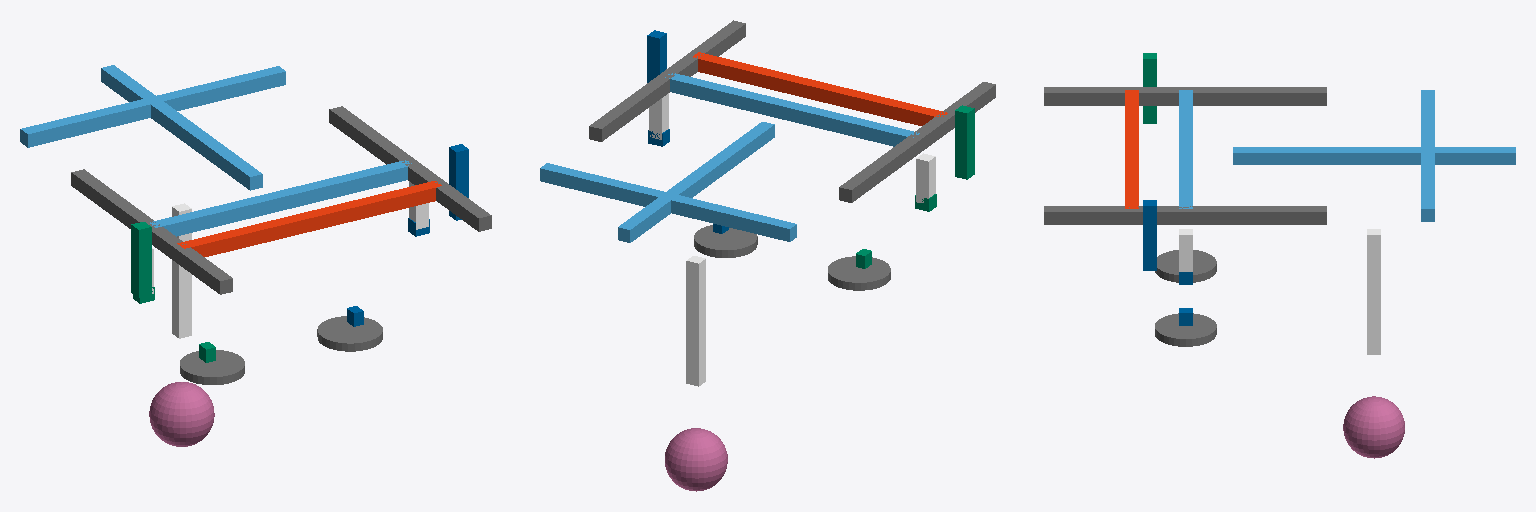
robot.urdf — robot:
<?xml version="1.0" ?>
<!-- =================================================================================== -->
<!-- |    This document was autogenerated by xacro from robot_core.xacro               | -->
<!-- |    EDITING THIS FILE BY HAND IS NOT RECOMMENDED                                 | -->
<!-- =================================================================================== -->
<robot>
  <!-- Specify some standard inertial calculations https://en.wikipedia.org/wiki/List_of_moments_of_inertia -->
  <!-- These make use of xacro's mathematical functionality -->
  <material name="white">
    <color rgba="1 1 1 1"/>
  </material>
  <material name="orange">
    <color rgba="1 0.3 0.1 1"/>
  </material>
  <material name="blue">
    <color rgba="0.2 0.2 1 1"/>
  </material>
  <material name="black">
    <color rgba="0 0 0 1"/>
  </material>
  <material name="red">
    <color rgba="1 0 0 1"/>
  </material>
  <material name="grey">
    <color rgba="0.5 0.5 0.5 1"/>
  </material>
  <!-- Create fixed world frame -->
  <link name="world"/>
  <joint name="world_joint" type="floating">
    <parent link="world"/>
    <child link="chassis"/>
    <origin xyz="0 0 0.1"/>
  </joint>
  <link name="chassis">
    <visual>
      <geometry>
        <box size="0.3 0.015 0.015"/>
      </geometry>
      <material name="orange"/>
      <origin xyz="0 -0.0575 0"/>
    </visual>
    <visual>
      <geometry>
        <box size="0.3 0.015 0.015"/>
      </geometry>
      <origin xyz="0 0.2575 0"/>
    </visual>
    <visual>
      <geometry>
        <box size="0.015 0.3 0.015"/>
      </geometry>
      <material name="grey"/>
      <origin xyz="-0.15 0 0"/>
    </visual>
    <visual>
      <geometry>
        <box size="0.015 0.3 0.015"/>
      </geometry>
      <material name="grey"/>
      <origin xyz="0.15 0 0"/>
    </visual>
    <visual>
      <geometry>
        <box size="0.3 0.015 0.015"/>
      </geometry>
      <origin xyz="0 0 0"/>
    </visual>
    <visual>
      <geometry>
        <box size="0.015 0.3 0.015"/>
      </geometry>
      <origin xyz="0 0.2 0"/>
    </visual>
    <inertial>
      <mass value="1"/>
      <inertia ixx="1e-3" ixy="0.0" ixz="0.0" iyy="1e-3" iyz="0.0" izz="1e-3"/>
    </inertial>
  </link>
  <gazebo reference="chassis">
    <material>Gazebo/White</material>
  </gazebo>
  <!-- Left_wheel_base-->
  <link name="left_wheel_base">
    <visual>
      <geometry>
        <box size="0.015 0.015 0.05"/>
      </geometry>
      <origin xyz="-0.08 0 -0.0325"/>
      <material name="white"/>
    </visual>
    <visual>
      <geometry>
        <box size="0.017 0.015 0.015"/>
      </geometry>
      <origin xyz="-0.08 0 -0.0575"/>
    </visual>
    <visual>
      <geometry>
        <box size="0.015 0.015 0.076"/>
      </geometry>
      <origin xyz="-0.10450000000000001 -0.038 0.0"/>
    </visual>
    <visual>
      <geometry>
        <box size="0.0115 0.015 0.015"/>
      </geometry>
      <origin xyz="-0.00575 0 -0.14100000000000001"/>
    </visual>
    <inertial>
      <mass value="1"/>
      <inertia ixx="1e-3" ixy="0.0" ixz="0.0" iyy="1e-3" iyz="0.0" izz="1e-3"/>
    </inertial>
  </link>
  <gazebo reference="left_wheel_base_joint">
    <material>Gazebo/Blue</material>
  </gazebo>
  <joint name="left_wheel_base_joint" type="continuous">
    <parent link="chassis"/>
    <child link="left_wheel_base"/>
    <origin rpy="0.0 0.0 0.0" xyz="-0.08 0 -0.0075"/>
  </joint>
  <!-- Left_wheel-->
  <link name="left_wheel">
    <visual>
      <geometry>
        <cylinder length="0.009" radius="0.033"/>
      </geometry>
      <origin rpy="0 0.0 1.5707963267948966" xyz="0 0 0.0"/>
      <material name="grey"/>
    </visual>
  </link>
  <joint name="left_wheel_joint" type="continuous">
    <parent link="left_wheel_base"/>
    <child link="left_wheel"/>
    <origin xyz="0 0 -0.159"/>
    <axis xyz="0 1 0"/>
  </joint>
  <!-- right_wheel_base-->
  <link name="right_wheel_base">
    <visual>
      <geometry>
        <box size="0.015 0.015 0.05"/>
      </geometry>
      <origin xyz="0.08 0 -0.0325"/>
      <material name="white"/>
    </visual>
    <visual>
      <geometry>
        <box size="0.017 0.015 0.015"/>
      </geometry>
      <origin xyz="0.08 0 -0.0575"/>
    </visual>
    <visual>
      <geometry>
        <box size="0.015 0.015 0.076"/>
      </geometry>
      <origin xyz="0.10450000000000001 -0.038 0.0"/>
    </visual>
    <visual>
      <geometry>
        <box size="0.0115 0.015 0.015"/>
      </geometry>
      <origin xyz="0.00575 0 -0.14100000000000001"/>
    </visual>
    <inertial>
      <mass value="1"/>
      <inertia ixx="1e-3" ixy="0.0" ixz="0.0" iyy="1e-3" iyz="0.0" izz="1e-3"/>
    </inertial>
  </link>
  <gazebo reference="right_wheel_base_joint">
    <material>Gazebo/Blue</material>
  </gazebo>
  <joint name="right_wheel_base_joint" type="continuous">
    <parent link="chassis"/>
    <child link="right_wheel_base"/>
    <origin rpy="0.0 0.0 0.0" xyz="0.08 0 -0.0075"/>
  </joint>
  <!-- right_wheel-->
  <link name="right_wheel">
    <visual>
      <geometry>
        <cylinder length="0.009" radius="0.033"/>
      </geometry>
      <origin rpy="0 0.0 1.5707963267948966" xyz="0 0 0.0"/>
      <material name="grey"/>
    </visual>
  </link>
  <gazebo reference="right_wheel">
    <material>Gazebo/Black</material>
  </gazebo>
  <joint name="right_wheel_joint" type="continuous">
    <parent link="right_wheel_base"/>
    <child link="right_wheel"/>
    <origin xyz="0 0 -0.159"/>
    <axis xyz="0 1 0"/>
  </joint>
  <!-- castor wheel-->
  <link name="castor_wheel">
    <visual>
      <geometry>
        <box size="0.015 0.015 0.14100000000000001"/>
      </geometry>
      <material name="white"/>
    </visual>
    <visual>
      <geometry>
        <sphere radius="0.033"/>
      </geometry>
      <origin xyz="0 0 -0.159"/>
    </visual>
  </link>
  <joint name="castor_joint" type="fixed">
    <parent link="chassis"/>
    <child link="castor_wheel"/>
    <origin xyz="0 0.2 -0.159"/>
  </joint>
</robot>

--- Render facts (derived) ---
3 views of the same robot in one strip: view 1: azimuth 30°, elevation 25°; view 2: azimuth 150°, elevation 25°; view 3: azimuth 270°, elevation 25° (orthographic).
Model robot with 7 links and 6 joints (4 continuous, 1 fixed, 1 floating), rooted at world, posed all joints at 0.
Links seen in each view (by area): view 1: chassis, castor_wheel, left_wheel_base, right_wheel_base, right_wheel, left_wheel; view 2: chassis, castor_wheel, left_wheel_base, right_wheel_base, left_wheel, right_wheel; view 3: chassis, castor_wheel, right_wheel_base, right_wheel, left_wheel, left_wheel_base.
Link boxes in pixels (x1=…): chassis: x1=20, y1=65, x2=491, y2=294; castor_wheel: x1=149, y1=203, x2=214, y2=446; left_wheel_base: x1=131, y1=222, x2=215, y2=362; right_wheel_base: x1=347, y1=144, x2=468, y2=326; right_wheel: x1=317, y1=316, x2=382, y2=351; left_wheel: x1=180, y1=350, x2=244, y2=384; chassis: x1=540, y1=20, x2=995, y2=242; castor_wheel: x1=665, y1=256, x2=727, y2=491; left_wheel_base: x1=856, y1=105, x2=974, y2=268; right_wheel_base: x1=647, y1=30, x2=728, y2=233; left_wheel: x1=828, y1=256, x2=890, y2=290; right_wheel: x1=694, y1=225, x2=757, y2=257; chassis: x1=1044, y1=87, x2=1515, y2=224; castor_wheel: x1=1343, y1=229, x2=1404, y2=458; right_wheel_base: x1=1143, y1=200, x2=1192, y2=325; right_wheel: x1=1155, y1=313, x2=1216, y2=346; left_wheel: x1=1155, y1=250, x2=1216, y2=282; left_wheel_base: x1=1143, y1=53, x2=1156, y2=123.
Bounding box of the posed robot: 0.384 × 0.5 × 0.3815 m (x, y, z).
Geometry: primitives only (box / cylinder / sphere), no mesh files.